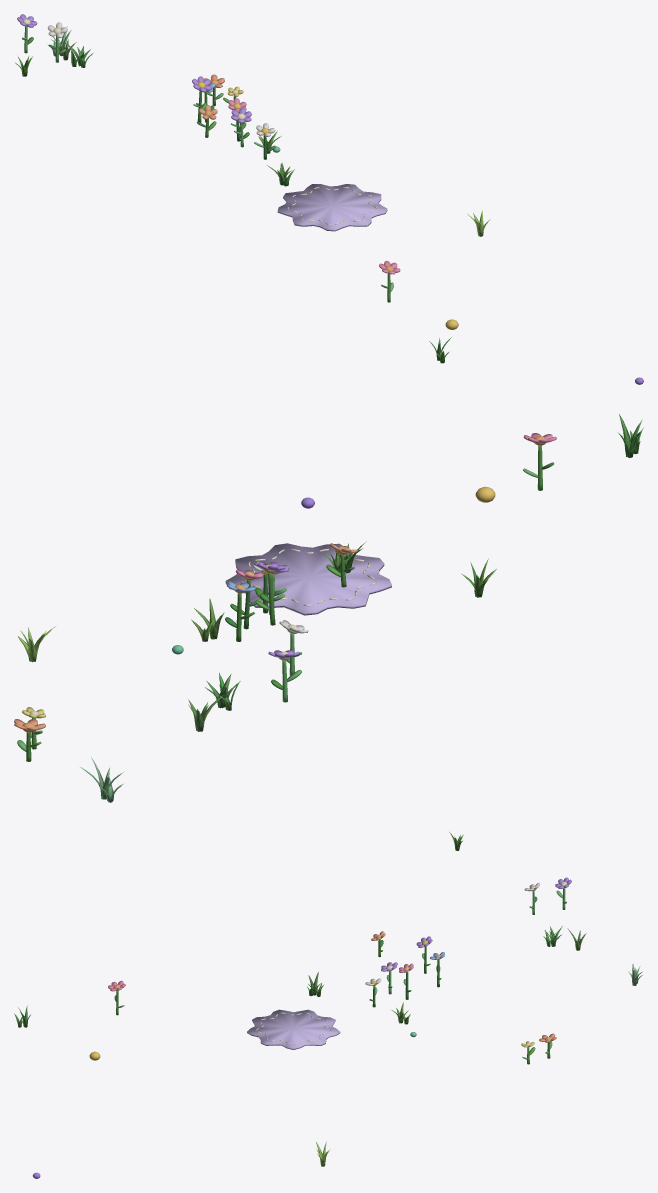
File: W3_FloraRing_7_9.fbx
The picture shows the model from 3 angles, top to bottom: view 1: azimuth 30°, elevation 25°; view 2: azimuth 150°, elevation 25°; view 3: azimuth 270°, elevation 25°; orthographic projection. The views are drawn at different scales.
Parts seen in each view (by area): view 1: W3_FloraRing_7_9; view 2: W3_FloraRing_7_9; view 3: W3_FloraRing_7_9.
Part boxes in pixels (box(x1,y1,x2,y2)): W3_FloraRing_7_9: box(15, 14, 643, 384); W3_FloraRing_7_9: box(14, 414, 643, 802); W3_FloraRing_7_9: box(14, 832, 642, 1178).
Size of the model in its own units: 2.18 by 1.24 by 3.59.
